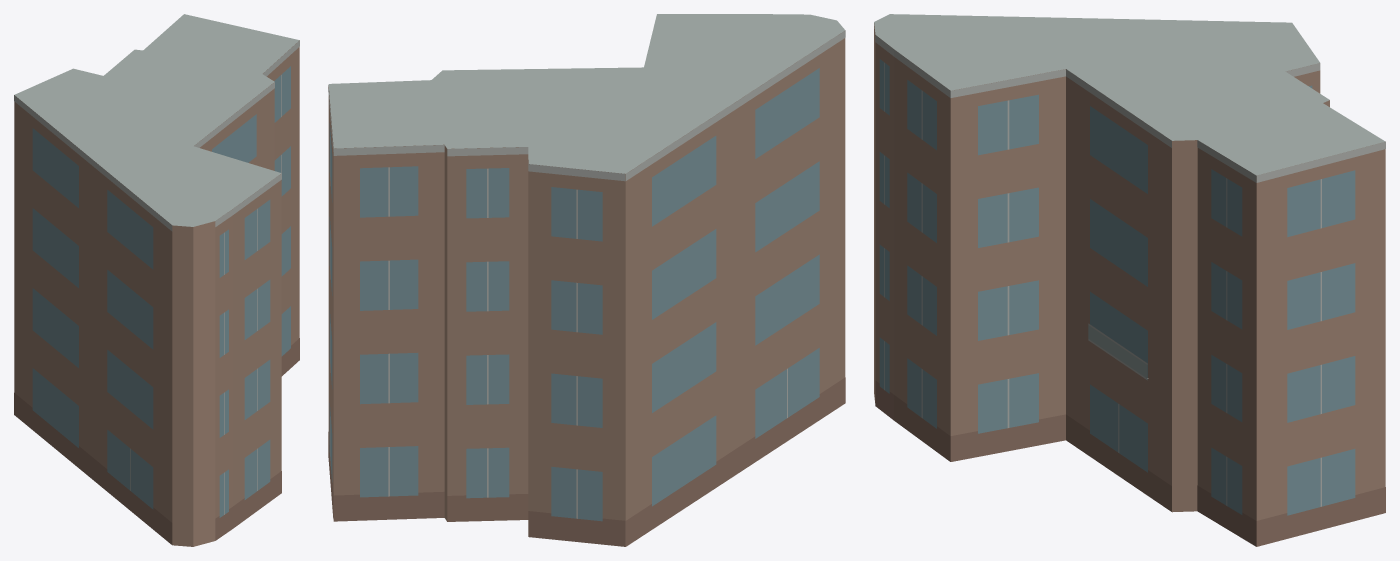
File: survey-upis-32474081.glb
3 views of the same model, side by side, from view 1: azimuth 30°, elevation 25°; view 2: azimuth 150°, elevation 25°; view 3: azimuth 270°, elevation 25° (orthographic). The views are drawn at different scales.
Visible parts, largest first — view 1: survey-upis-32474081.tmp; view 2: survey-upis-32474081.tmp; view 3: survey-upis-32474081.tmp.
Part boxes in pixels (bbox=[...]): survey-upis-32474081.tmp: bbox=[14, 14, 299, 546]; survey-upis-32474081.tmp: bbox=[328, 14, 845, 546]; survey-upis-32474081.tmp: bbox=[874, 14, 1385, 546].
Size of the model in its own units: 11.39 by 12.2 by 15.24.
